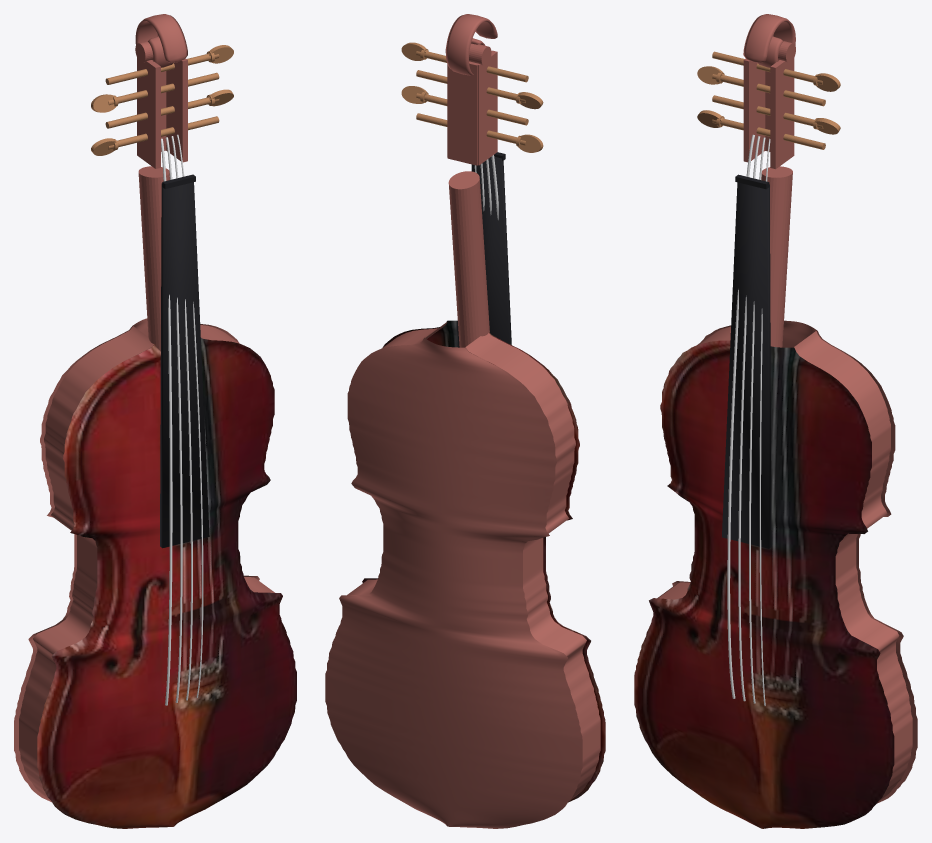
Rendered from violin.glb.
3 views of the same model, side by side, from view 1: azimuth 30°, elevation 25°; view 2: azimuth 150°, elevation 25°; view 3: azimuth 330°, elevation 25° (orthographic).
Parts seen in each view (by area): view 1: Violin_Soundboard, Violin_Fingerboard, Violin_Ribs, Violin_Neck, Violin_Back, Pegbox_Cheek_L, Violin_Scroll, Pegbox_Cheek_R, String_G, String_D, String_A, String_E (+4 smaller); view 2: Violin_Back, Violin_Ribs, Violin_Neck, Violin_Fingerboard, Pegbox_Floor, Violin_Soundboard, Pegbox_Cheek_L, Violin_Scroll; view 3: Violin_Soundboard, Violin_Fingerboard, Violin_Ribs, Violin_Neck, Violin_Back, Pegbox_Cheek_R, Violin_Scroll, Pegbox_Cheek_L, String_G, String_D, String_A, String_E (+4 smaller).
Boxes of the visible parts, <box> form: Violin_Soundboard: <box>37,338,296,828</box>; Violin_Fingerboard: <box>160,182,209,548</box>; Violin_Ribs: <box>19,325,274,800</box>; Violin_Neck: <box>138,166,169,351</box>; Violin_Back: <box>14,318,259,802</box>; Pegbox_Cheek_L: <box>137,58,160,168</box>; Violin_Scroll: <box>135,14,187,67</box>; Pegbox_Cheek_R: <box>166,58,187,162</box>; String_G: <box>161,138,172,705</box>; String_D: <box>165,137,182,702</box>; String_A: <box>171,136,192,700</box>; String_E: <box>177,134,203,697</box>; Violin_Back: <box>325,337,582,828</box>; Violin_Ribs: <box>347,321,600,800</box>; Violin_Neck: <box>448,171,489,361</box>; Violin_Fingerboard: <box>471,156,511,344</box>; Pegbox_Floor: <box>447,61,477,165</box>; Violin_Soundboard: <box>362,320,605,802</box>; Pegbox_Cheek_L: <box>474,50,497,165</box>; Violin_Scroll: <box>446,14,497,75</box>; Violin_Soundboard: <box>634,340,894,828</box>; Violin_Fingerboard: <box>722,182,771,548</box>; Violin_Ribs: <box>657,326,912,801</box>; Violin_Neck: <box>761,166,792,347</box>; Violin_Back: <box>672,320,917,803</box>; Pegbox_Cheek_R: <box>770,58,794,169</box>; Violin_Scroll: <box>743,14,795,67</box>; Pegbox_Cheek_L: <box>743,58,765,162</box>; String_G: <box>727,134,754,698</box>; String_D: <box>738,136,760,701</box>; String_A: <box>749,137,765,703</box>; String_E: <box>759,138,770,705</box>.
Size of what is drawn, in the model's own units: 1.93 by 5.71 by 0.7067.
Materials: 5 (1 with a texture image).
